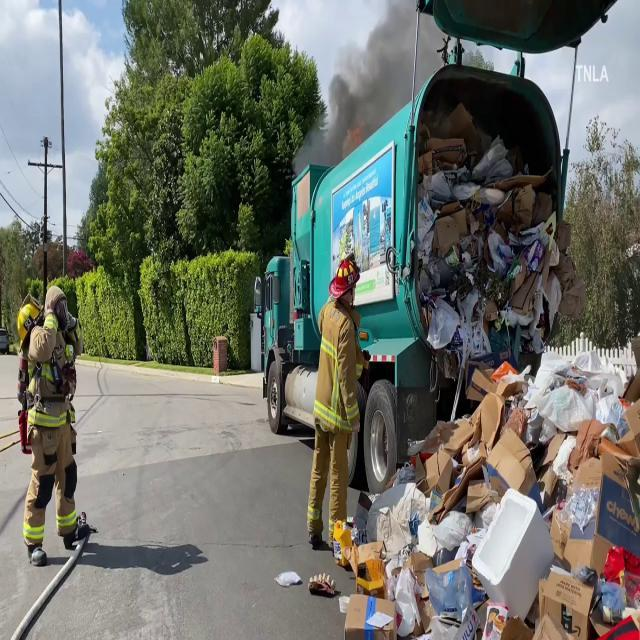Smoke: (312, 3, 408, 164)
